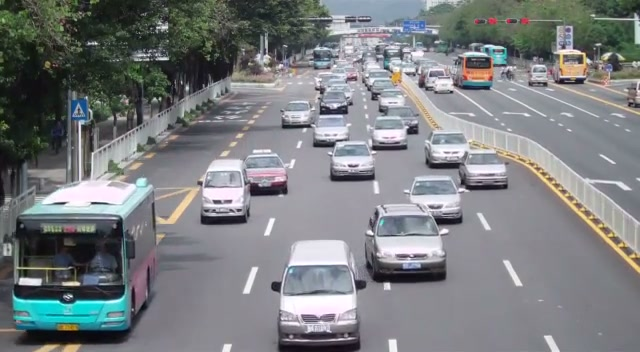bus: (12, 175, 161, 334), (454, 52, 494, 89), (477, 45, 509, 68)
car: (272, 240, 366, 351), (364, 204, 449, 282), (198, 158, 253, 224), (405, 174, 464, 223), (458, 150, 509, 190), (243, 152, 289, 195), (329, 141, 376, 181), (423, 130, 469, 168), (312, 113, 350, 147), (372, 116, 408, 150), (383, 105, 420, 134), (280, 100, 313, 128), (319, 91, 349, 114)
pedestrian: (89, 241, 118, 273), (51, 120, 64, 154)
truck: (553, 49, 588, 84), (528, 65, 548, 87)
